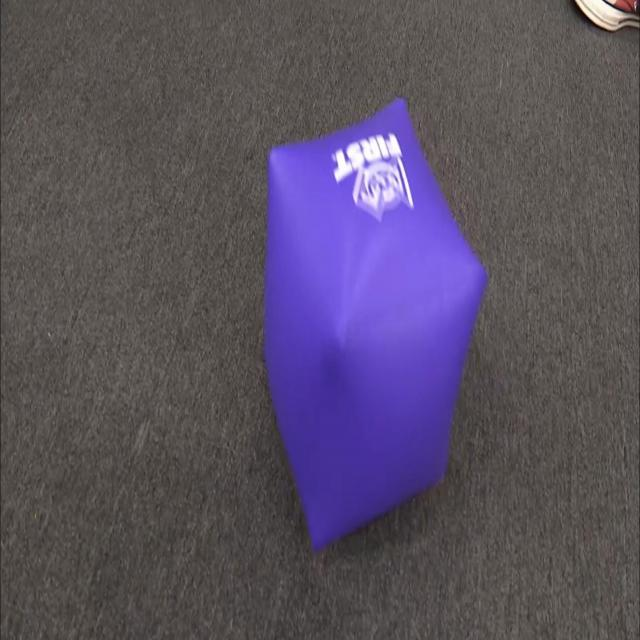frc_cube: (264, 98, 492, 549)
